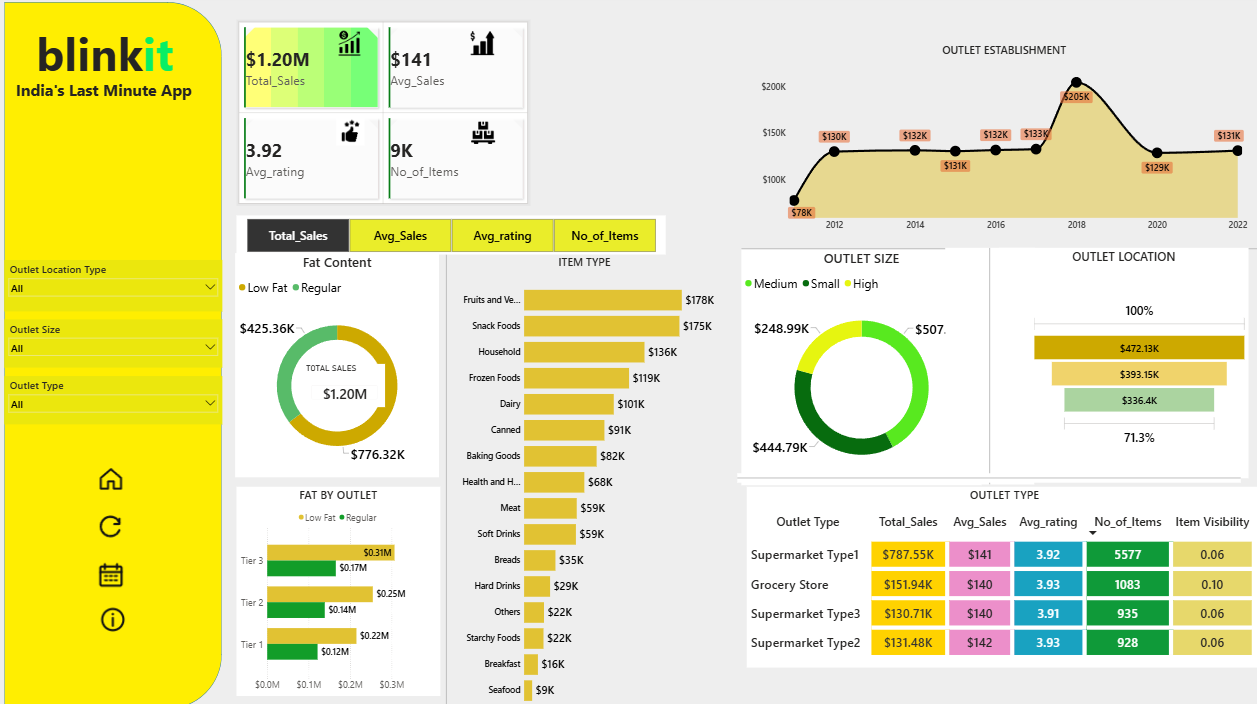

Layout of this report page (visuals, bound fields, positions):
{"tool":"powerbi","page":{"name":"Dashboard","canvas":[3000,1700],"ordinal":0},"visuals":[{"type":"shape","box":[47.5,19,510.6,1658.7],"z":0},{"type":"textbox","box":[93.2,59.6,383.9,171.5],"z":1000},{"type":"textbox","box":[70.8,193.8,451,104.4],"z":2000},{"type":"cardVisual","fields":{"Data":["BlinkIT Grocery Data.Total_Sales","BlinkIT Grocery Data.Avg_Sales","BlinkIT Grocery Data.Avg_rating","BlinkIT Grocery Data.No_of_Items"]},"box":[592.5,60.2,690.7,437.2],"z":3000},{"type":"image","box":[1133.1,85.7,70.8,59.6],"z":4000},{"type":"image","box":[1125.7,298.2,93.2,55.9],"z":5000},{"type":"image","box":[797.6,287,123,67.1],"z":6000},{"type":"image","box":[812.6,85.7,93.2,59.6],"z":7000},{"type":"donutChart","title":"Fat Content","fields":{"Y":["BlinkIT Grocery Data.Total_Sales"],"Category":["BlinkIT Grocery Data.Item Fat Content"]},"box":[589.3,608.3,478.4,525.9],"z":8000},{"type":"slicer","fields":{"Values":["Matrics.Matrics"]},"box":[592.5,519.6,1007.5,91.9],"z":9000},{"type":"cardVisual","title":"TOTAL SALES","fields":{"Data":["BlinkIT Grocery Data.Total_Sales"]},"box":[750.9,868.1,190.1,101.4],"z":10000},{"type":"clusteredBarChart","title":"FAT BY OUTLET","fields":{"Y":["BlinkIT Grocery Data.Total_Sales"],"Category":["BlinkIT Grocery Data.Outlet Location Type"],"Series":["BlinkIT Grocery Data.Item Fat Content"]},"box":[592.5,1156.4,478.4,491.1],"z":11000},{"type":"barChart","title":"ITEM TYPE","fields":{"Y":["BlinkIT Grocery Data.Total_Sales"],"Category":["BlinkIT Grocery Data.Item Type"]},"box":[1099.6,611.3,618.7,1077.2],"z":12000},{"type":"shape","box":[1020.2,611.5,129.9,1077.2],"z":13000},{"type":"lineChart","title":" OUTLET ESTABLISHMENT ","fields":{"Category":["BlinkIT Grocery Data.Outlet Establishment Year"],"Y":["BlinkIT Grocery Data.Total_Sales"]},"box":[1818.9,115.5,1151.7,451],"z":14000},{"type":"donutChart","title":"OUTLET SIZE","fields":{"Y":["BlinkIT Grocery Data.Total_Sales"],"Category":["BlinkIT Grocery Data.Outlet Size"]},"box":[1777.4,598.8,563.9,554.4],"z":15000},{"type":"shape","box":[1777.9,518.1,1222.6,156.5],"z":16000},{"type":"funnel","title":"OUTLET LOCATION","fields":{"Y":["Sum(BlinkIT Grocery Data.Sales)"],"Category":["BlinkIT Grocery Data.Outlet Location Type"]},"box":[2381.8,596.4,585.2,540.5],"z":17000},{"type":"shape","box":[2255,596.4,208.7,555.4],"z":18000},{"type":"textbox","box":[48,1725,511,275],"z":19000},{"type":"pivotTable","title":"OUTLET TYPE","fields":{"Rows":["BlinkIT Grocery Data.Outlet Type"],"Values":["BlinkIT Grocery Data.Total_Sales","BlinkIT Grocery Data.Avg_Sales","BlinkIT Grocery Data.Avg_rating","BlinkIT Grocery Data.No_of_Items","Avg(BlinkIT Grocery Data.Item Visibility)"]},"box":[1790,1156.4,1210.3,424.5],"z":20000},{"type":"slicer","fields":{"Values":["BlinkIT Grocery Data.Outlet Location Type"]},"box":[47.5,625,511.7,120.6],"z":20001},{"type":"slicer","fields":{"Values":["BlinkIT Grocery Data.Outlet Size"]},"box":[47.5,763.9,511.7,113.3],"z":20002},{"type":"slicer","fields":{"Values":["BlinkIT Grocery Data.Outlet Type"]},"box":[47.5,895.5,511.7,113.3],"z":20003},{"type":"actionButton","box":[253.5,1099.4,88.7,76],"z":20006},{"type":"actionButton","box":[253.5,1210.3,88.7,79.2],"z":20007},{"type":"actionButton","box":[253.5,1324.3,88.7,79.2],"z":20008},{"type":"actionButton","box":[253.5,1428.9,98.2,79.2],"z":20009},{"type":"shape","box":[1767.9,1124.7,1181.7,22.1],"z":20010}]}

Visuals, with their boxes in screenshot pixels (x1, y1, x2, y2), scaled from the page's 3000x1700 canvas onto the 1257x704 screenshot:
shape: <region>20, 8, 234, 695</region>
textbox: <region>39, 25, 200, 96</region>
textbox: <region>30, 80, 219, 123</region>
cardVisual - BlinkIT Grocery Data.Total_Sales x BlinkIT Grocery Data.Avg_Sales: <region>248, 25, 538, 206</region>
image: <region>475, 35, 504, 60</region>
image: <region>472, 123, 511, 147</region>
image: <region>334, 119, 386, 147</region>
image: <region>340, 35, 380, 60</region>
"Fat Content" donutChart: <region>247, 252, 447, 470</region>
slicer - Matrics.Matrics: <region>248, 215, 670, 253</region>
"TOTAL SALES" cardVisual: <region>315, 359, 394, 401</region>
"FAT BY OUTLET" clusteredBarChart: <region>248, 479, 449, 682</region>
"ITEM TYPE" barChart: <region>461, 253, 720, 699</region>
shape: <region>427, 253, 482, 699</region>
" OUTLET ESTABLISHMENT " lineChart: <region>762, 48, 1245, 235</region>
"OUTLET SIZE" donutChart: <region>745, 248, 981, 478</region>
shape: <region>745, 215, 1256, 279</region>
"OUTLET LOCATION" funnel: <region>998, 247, 1243, 471</region>
shape: <region>945, 247, 1032, 477</region>
"OUTLET TYPE" pivotTable: <region>750, 479, 1256, 655</region>
slicer - BlinkIT Grocery Data.Outlet Location Type: <region>20, 259, 234, 309</region>
slicer - BlinkIT Grocery Data.Outlet Size: <region>20, 316, 234, 363</region>
slicer - BlinkIT Grocery Data.Outlet Type: <region>20, 371, 234, 418</region>
actionButton: <region>106, 455, 143, 487</region>
actionButton: <region>106, 501, 143, 534</region>
actionButton: <region>106, 548, 143, 581</region>
actionButton: <region>106, 592, 147, 625</region>
shape: <region>741, 466, 1236, 475</region>
